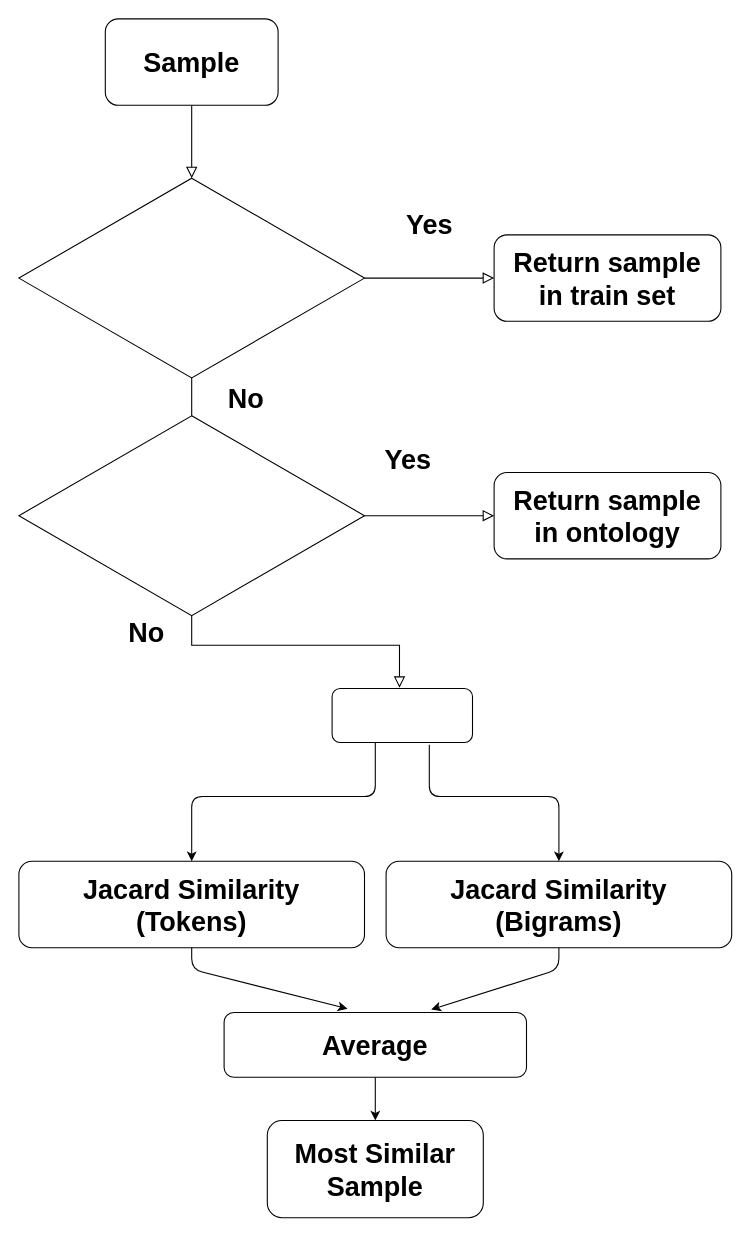
This 751x1237 diagram has some shape labels left out. The centre of each missing label's shape, as x and y in pixels:
"Exists in ontology?" belongs at point 191,515.
"Exists in train set?" belongs at point 191,277.
"Rules" belongs at point 402,714.
